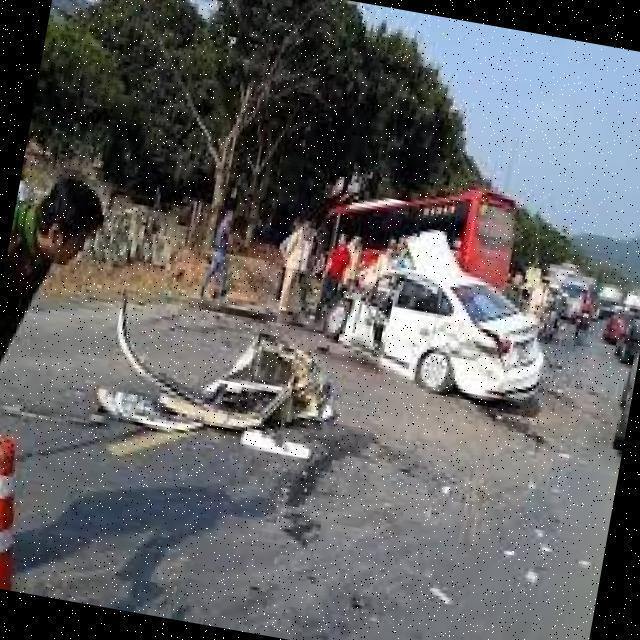accident: (302, 208, 578, 419)
